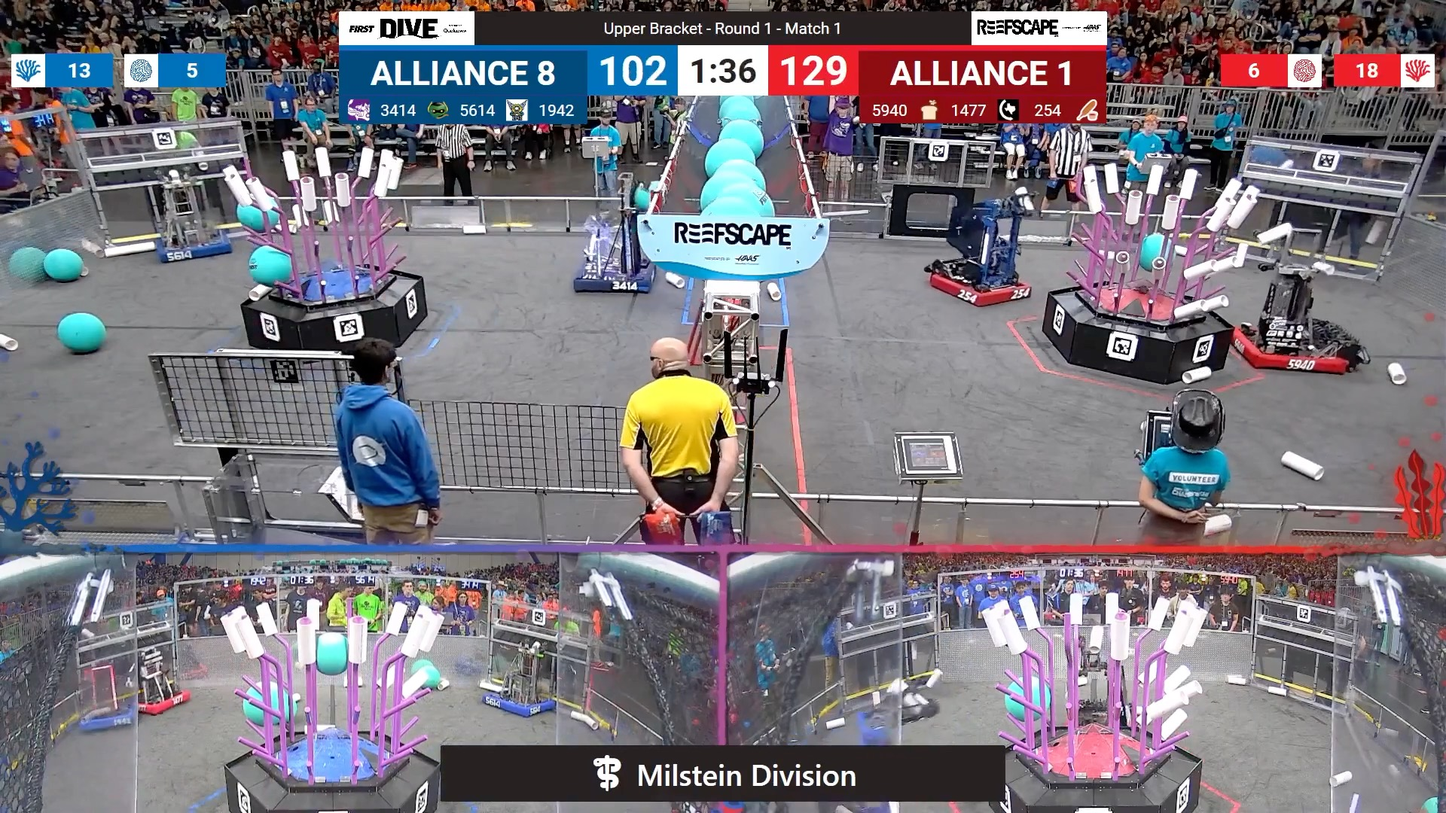bumpers: (1227, 320, 1364, 382), (918, 260, 1039, 309), (572, 254, 665, 296), (147, 235, 237, 269), (74, 698, 140, 740), (474, 690, 560, 722), (129, 689, 197, 718)
